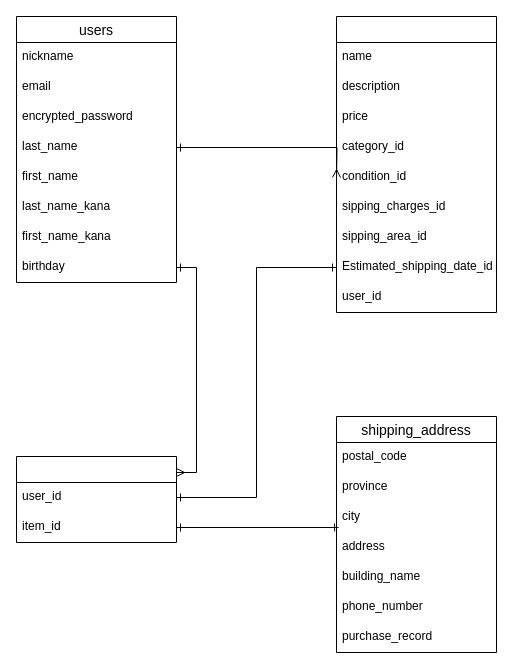
This 513x669 diagram has some shape labels left out. Here are the shapes that lost their labels. From the top down, the box of each, then its label:
(336, 16, 496, 312): items
(16, 456, 176, 542): purchase_records
